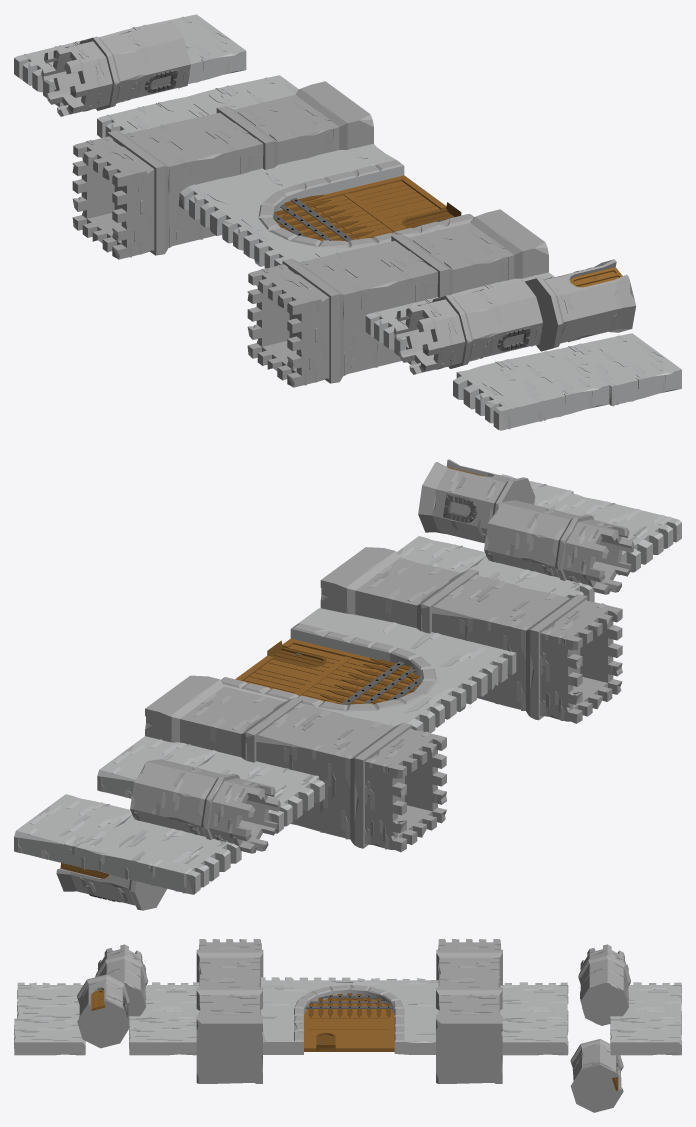
The model's file is castle.fbx.
The picture shows the model from 3 angles, top to bottom: view 1: azimuth 30°, elevation 25°; view 2: azimuth 150°, elevation 25°; view 3: azimuth 270°, elevation 25°; orthographic projection. The views are drawn at different scales.
Visible parts, largest first — view 1: Group2_2, Group1_5, Group1_4, Group1_16, Group1_11, Group1_15, Group1_19, Group1_14, Group4_4, Group2_1, Group2, Group1_20 (+11 smaller); view 2: Group2_2, Group1_4, Group1_5, Group1_11, Group1_15, Group1_14, Group1_19, Group1_18, Group4_4, Group2_1, Group2, Group1_2 (+13 smaller); view 3: Group2_2, Group1_19, Group1_14, Group4_3, Group2_1, Group4_4, Group1_2, Group1_5, Group1_4, Group1_20, Group1_8, Group1_17 (+13 smaller).
Boxes of the visible parts, left/top/right/bottom form: Group2_2: left=178, top=143, right=470, bottom=268; Group1_5: left=282, top=240, right=437, bottom=383; Group1_4: left=107, top=112, right=263, bottom=255; Group1_16: left=453, top=348, right=609, bottom=430; Group1_11: left=247, top=264, right=329, bottom=387; Group1_15: left=72, top=136, right=154, bottom=259; Group1_19: left=391, top=209, right=548, bottom=297; Group1_14: left=216, top=81, right=373, bottom=169; Group4_4: left=525, top=259, right=635, bottom=351; Group2_1: left=79, top=22, right=190, bottom=110; Group2: left=432, top=280, right=542, bottom=368; Group1_20: left=560, top=333, right=681, bottom=406; Group2_2: left=223, top=608, right=516, bottom=733; Group1_4: left=256, top=703, right=411, bottom=848; Group1_5: left=432, top=574, right=587, bottom=720; Group1_11: left=540, top=600, right=622, bottom=723; Group1_15: left=364, top=728, right=446, bottom=852; Group1_14: left=145, top=675, right=302, bottom=762; Group1_19: left=320, top=547, right=478, bottom=633; Group1_18: left=84, top=815, right=241, bottom=894; Group4_4: left=418, top=459, right=535, bottom=543; Group2_1: left=130, top=759, right=239, bottom=839; Group2: left=484, top=500, right=593, bottom=580; Group1_2: left=14, top=794, right=132, bottom=869; Group2_2: left=260, top=977, right=438, bottom=1054; Group1_19: left=196, top=987, right=262, bottom=1083; Group1_14: left=436, top=987, right=502, bottom=1083; Group4_3: left=570, top=1039, right=623, bottom=1112; Group2_1: left=578, top=954, right=630, bottom=1025; Group4_4: left=77, top=974, right=129, bottom=1048; Group1_2: left=610, top=1018, right=681, bottom=1055; Group1_5: left=196, top=949, right=263, bottom=987; Group1_4: left=436, top=949, right=502, bottom=987; Group1_20: left=14, top=1018, right=85, bottom=1055; Group1_8: left=129, top=1018, right=196, bottom=1055; Group1_17: left=502, top=1018, right=568, bottom=1055.
Size of the model in its own units: 1000 by 617 by 3321.
6 materials, 6 textured.
